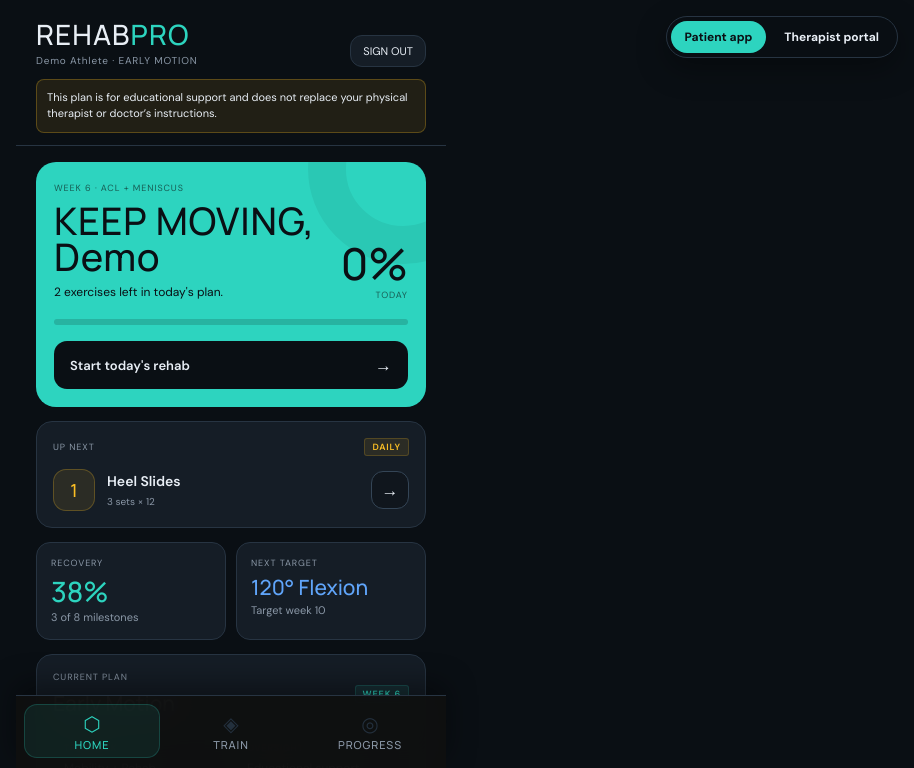
App Supabase patient MVP flow › shows progress from baseline values and session logs
Click the button "◎ PROGRESS" at {"x": 370, "y": 731}, box x1=302 y1=704 x2=438 y2=758
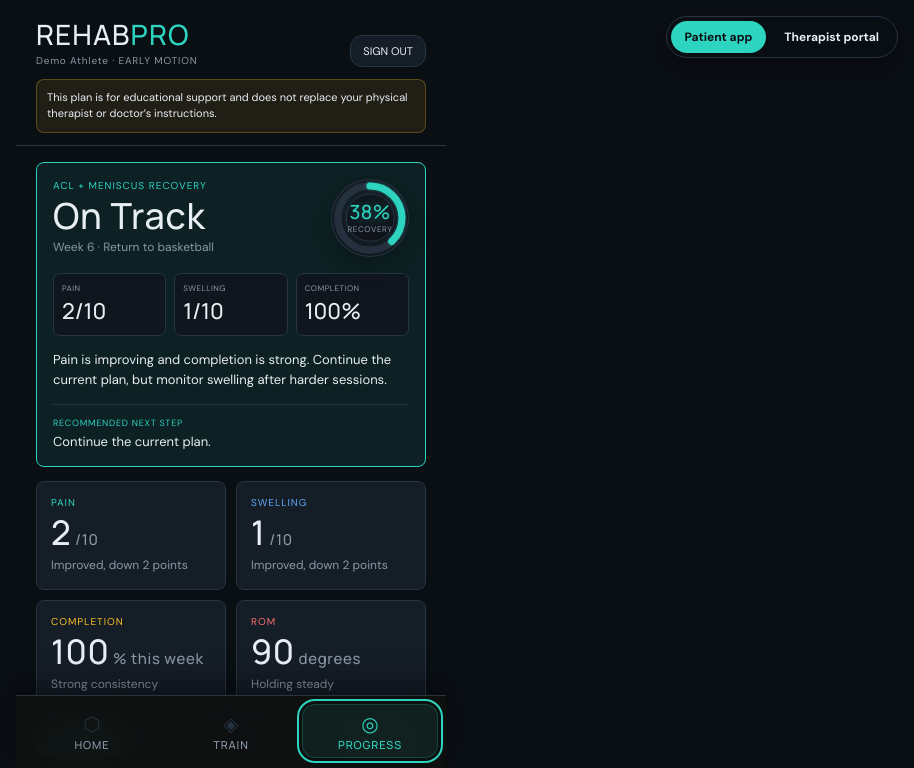
Expected: the text "ACL + Meniscus Recovery" is shown, x1=53 y1=179 x2=214 y2=192
Expected: the text "90" is shown, x1=251 y1=628 x2=295 y2=674
Expected: the text "Strong consistency" is shown, x1=51 y1=676 x2=158 y2=692
